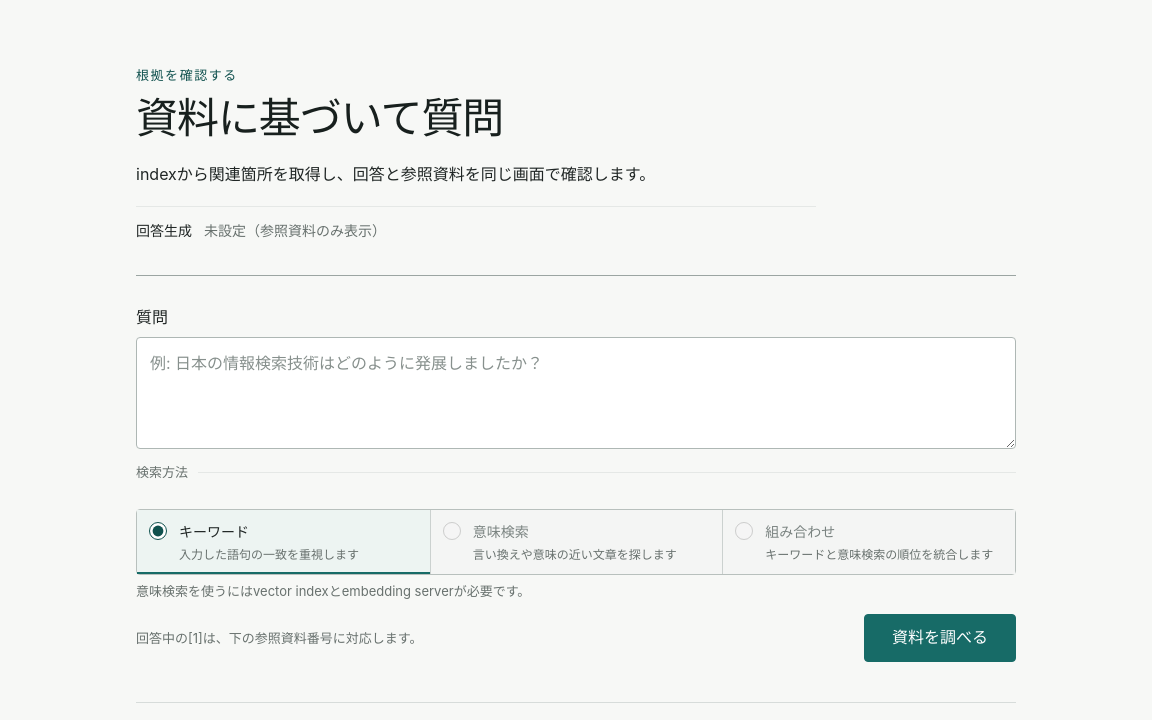
Test: RAG document UI › keeps retrieved sources visible when generation is unconfigured
Expected: the text "未設定（参照資料のみ表示）" is shown, [204, 219, 386, 243]
Type "情報検索とは？" into the text box labelled "質問". click: x=576, y=393
box: [136, 337, 1016, 449]
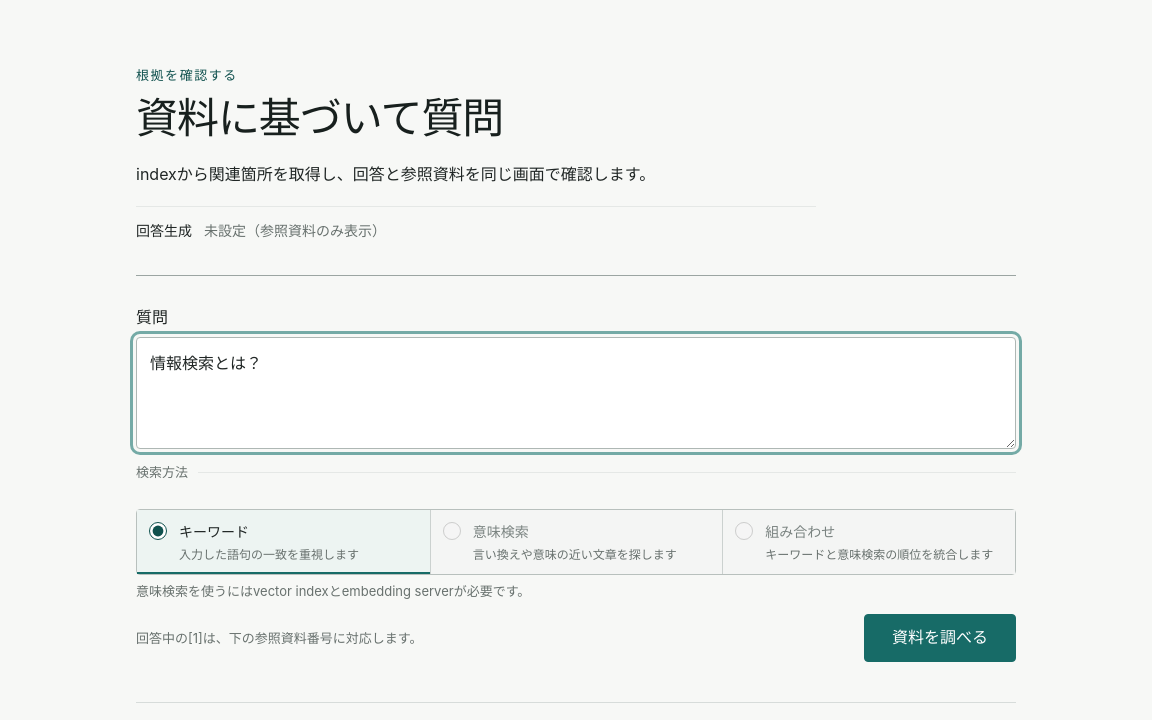
Click the button "資料を調べる". click: x=940, y=638
box: [864, 614, 1016, 662]
(page scrolled)
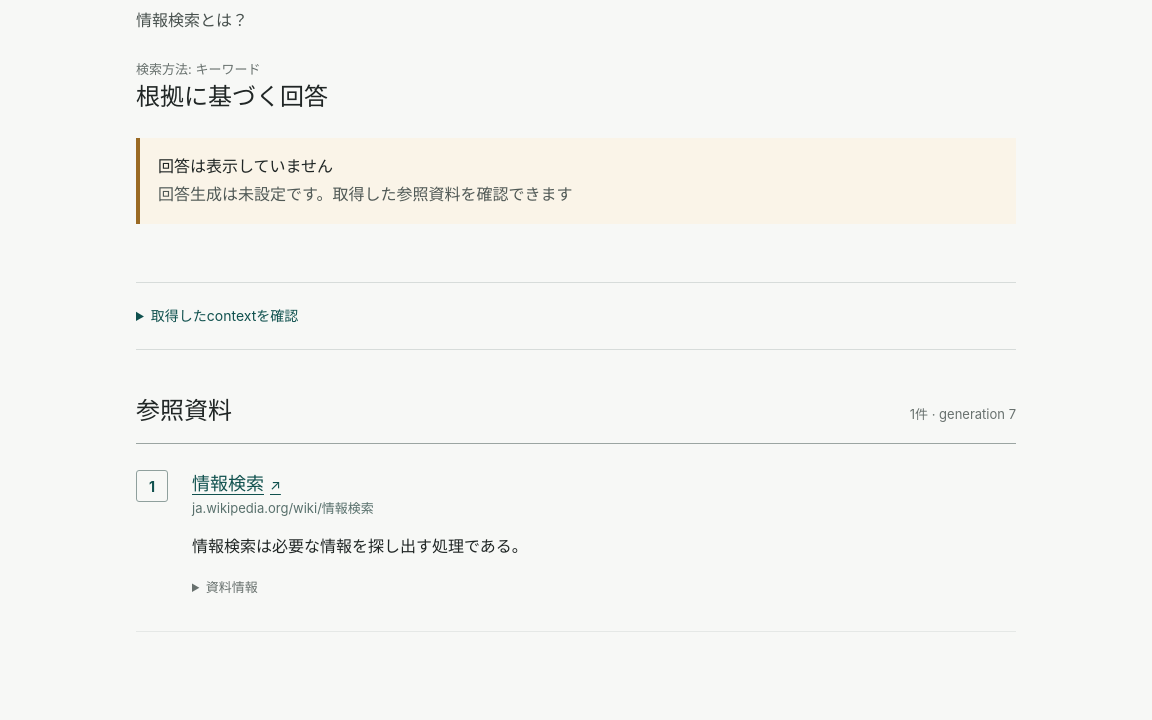
Now the text "回答生成は未設定です。取得した参照資料を確認できます" is shown, box [158, 184, 572, 204]
Now the text "情報検索は必要な情報を探し出す処理である。" is shown, box [192, 536, 528, 556]
Now the heading "参照資料" is shown, box [136, 394, 232, 427]
